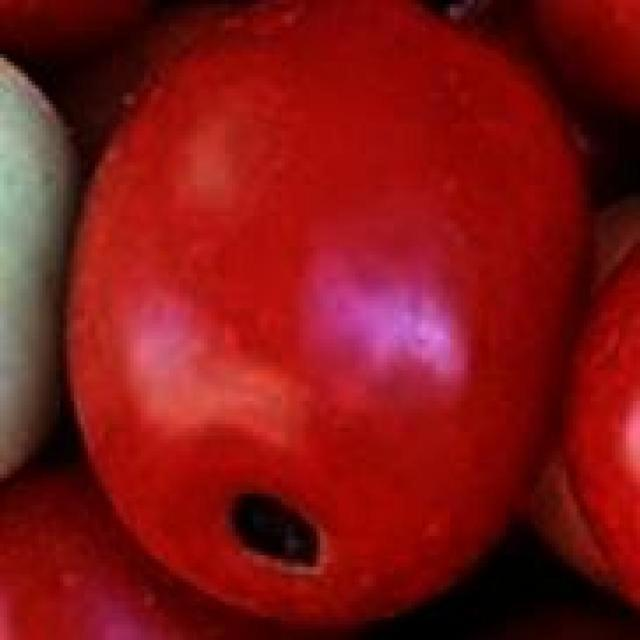Blossom End Rot Fruit: (141, 317, 218, 379)
